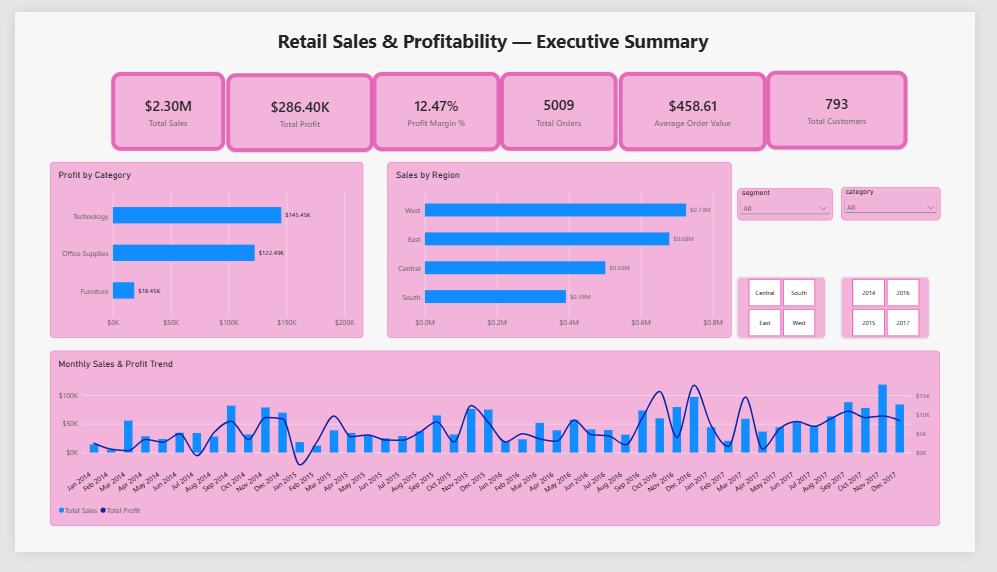

The page's visual inventory and layout, read from the dashboard file:
{"tool":"powerbi","page":{"name":"Executive Summary","canvas":[1920,1080],"ordinal":0},"visuals":[{"type":"card","fields":{"Values":["retail_analytics superstore.Total Sales"]},"box":[193.2,120,228.3,157.9],"z":0},{"type":"card","fields":{"Values":["retail_analytics superstore.Total Profit"]},"box":[422.3,122.5,295,157.5],"z":1000},{"type":"card","fields":{"Values":["retail_analytics superstore.Total Orders"]},"box":[970.9,120,235,157.5],"z":2000},{"type":"card","fields":{"Values":["retail_analytics superstore.Total Customers"]},"box":[1502.3,118.6,282.5,157.5],"z":3000},{"type":"card","fields":{"Values":["retail_analytics superstore.Profit Margin %"]},"box":[715.1,120,256,158],"z":4000},{"type":"card","fields":{"Values":["retail_analytics superstore.Average Order Value"]},"box":[1206.6,120,295.7,158.6],"z":5000},{"type":"clusteredBarChart","title":"Profit by Category","fields":{"Category":["retail_analytics superstore.category"],"Y":["retail_analytics superstore.Total Profit"]},"box":[70,300,626,352],"z":6000},{"type":"lineClusteredColumnComboChart","title":"Monthly Sales & Profit Trend","fields":{"Category":["DateTable.Year-Month"],"Y":["retail_analytics superstore.Total Sales"],"Y2":["retail_analytics superstore.Total Profit"]},"box":[70,678,1780,350],"z":7000},{"type":"clusteredBarChart","title":"Sales by Region","fields":{"Category":["retail_analytics superstore.region"],"Y":["retail_analytics superstore.Total Sales"]},"box":[744,300,688,352],"z":8000},{"type":"textbox","box":[526,32,868,62],"z":9000},{"type":"slicer","fields":{"Values":["DateTable.Year"]},"box":[1652,530,176.2,122.5],"z":11000},{"type":"slicer","fields":{"Values":["retail_analytics superstore.region"]},"box":[1444,530,176,122],"z":12000},{"type":"slicer","fields":{"Values":["retail_analytics superstore.category"]},"box":[1652,350,198,66],"z":13000},{"type":"slicer","fields":{"Values":["retail_analytics superstore.segment"]},"box":[1444,352,190,63.8],"z":14000}]}

Visuals, with their boxes in screenshot pixels (x1, y1, x2, y2), scaled from the page's 1920x1080 canvas onto the 997x572 screenshot:
card - retail_analytics superstore.Total Sales: (100, 64, 219, 147)
card - retail_analytics superstore.Total Profit: (219, 65, 372, 148)
card - retail_analytics superstore.Total Orders: (504, 64, 626, 147)
card - retail_analytics superstore.Total Customers: (780, 63, 927, 146)
card - retail_analytics superstore.Profit Margin %: (371, 64, 504, 147)
card - retail_analytics superstore.Average Order Value: (627, 64, 780, 148)
"Profit by Category" clusteredBarChart: (36, 159, 361, 345)
"Monthly Sales & Profit Trend" lineClusteredColumnComboChart: (36, 359, 961, 544)
"Sales by Region" clusteredBarChart: (386, 159, 744, 345)
textbox: (273, 17, 724, 50)
slicer - DateTable.Year: (858, 281, 949, 346)
slicer - retail_analytics superstore.region: (750, 281, 841, 345)
slicer - retail_analytics superstore.category: (858, 185, 961, 220)
slicer - retail_analytics superstore.segment: (750, 186, 848, 220)
